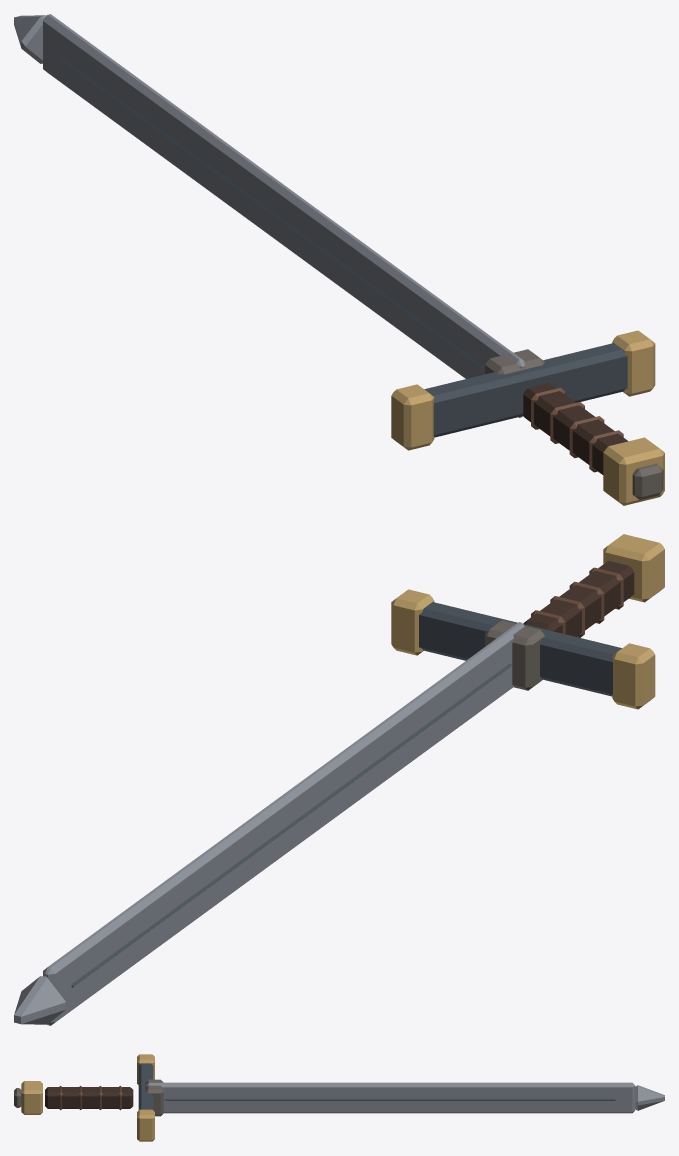
File: mdl_weapon_longsword_v1.glb
3 renders of one model, top to bottom at view 1: azimuth 30°, elevation 25°; view 2: azimuth 150°, elevation 25°; view 3: azimuth 270°, elevation 25°, orthographic. The views are drawn at different scales.
Visible parts, largest first — view 1: GEO_Weapon_Longsword; view 2: GEO_Weapon_Longsword; view 3: GEO_Weapon_Longsword.
Boxes of the visible parts, x1,y1,x2,y2 form: GEO_Weapon_Longsword: (14, 14, 664, 505); GEO_Weapon_Longsword: (14, 534, 664, 1025); GEO_Weapon_Longsword: (14, 1054, 664, 1141).
Size of the model in its own units: 0.262 by 0.058 by 1.14.
